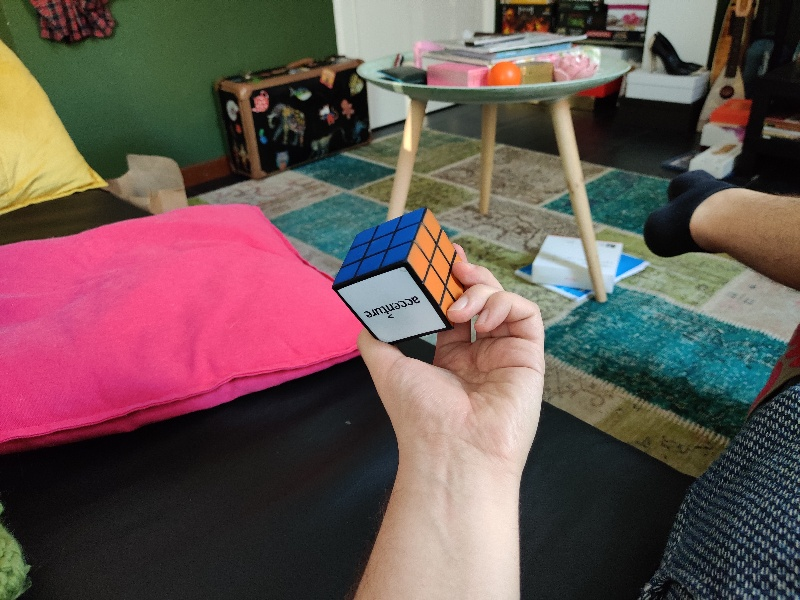rubik: (333, 209, 468, 346)
